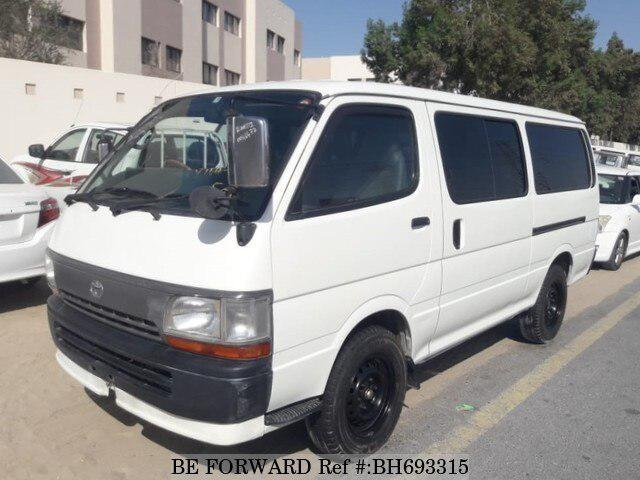van: (48, 74, 603, 464)
